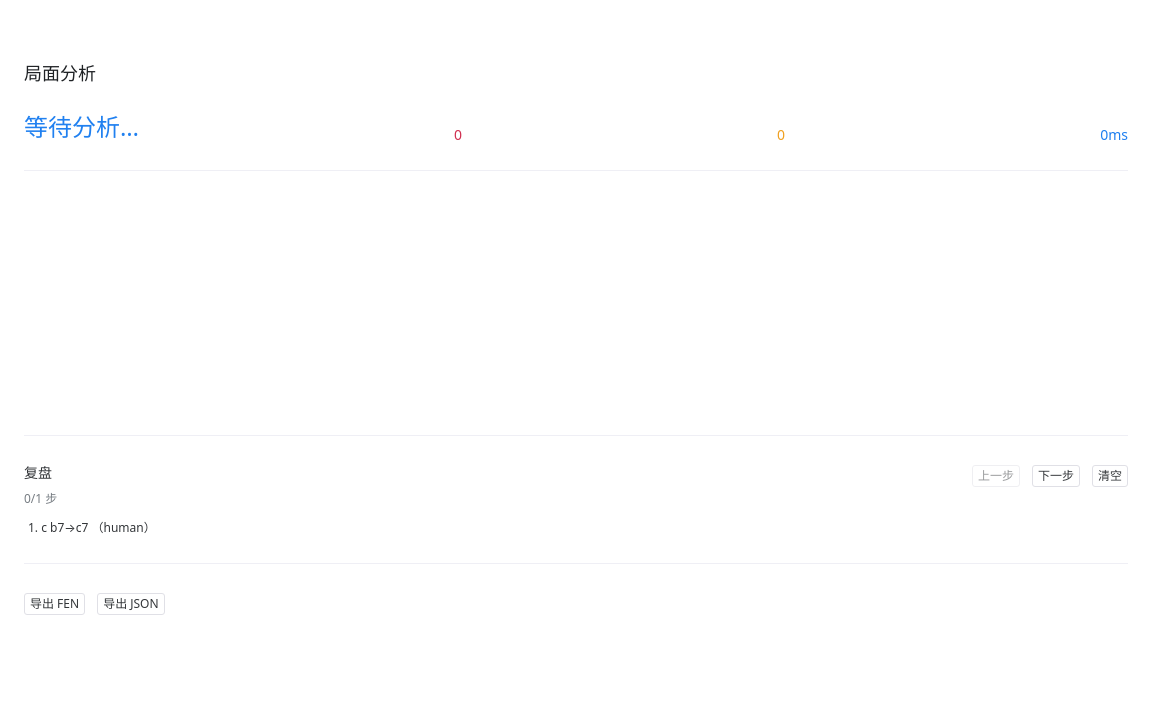
Analyse › 清空历史失败显示可见错误
Click the button with test id "clear-history" at (1110, 476), box [1092,465,1128,487]
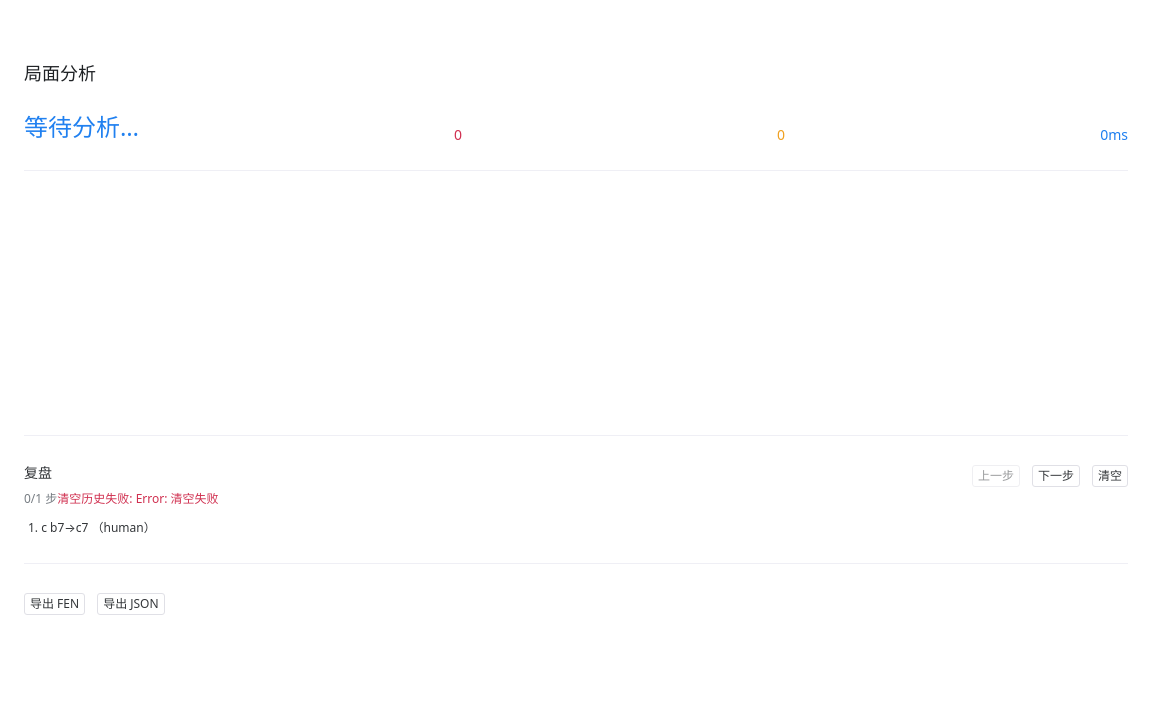
expect the text "清空历史失败" is shown: met, box [57,490,218,507]
